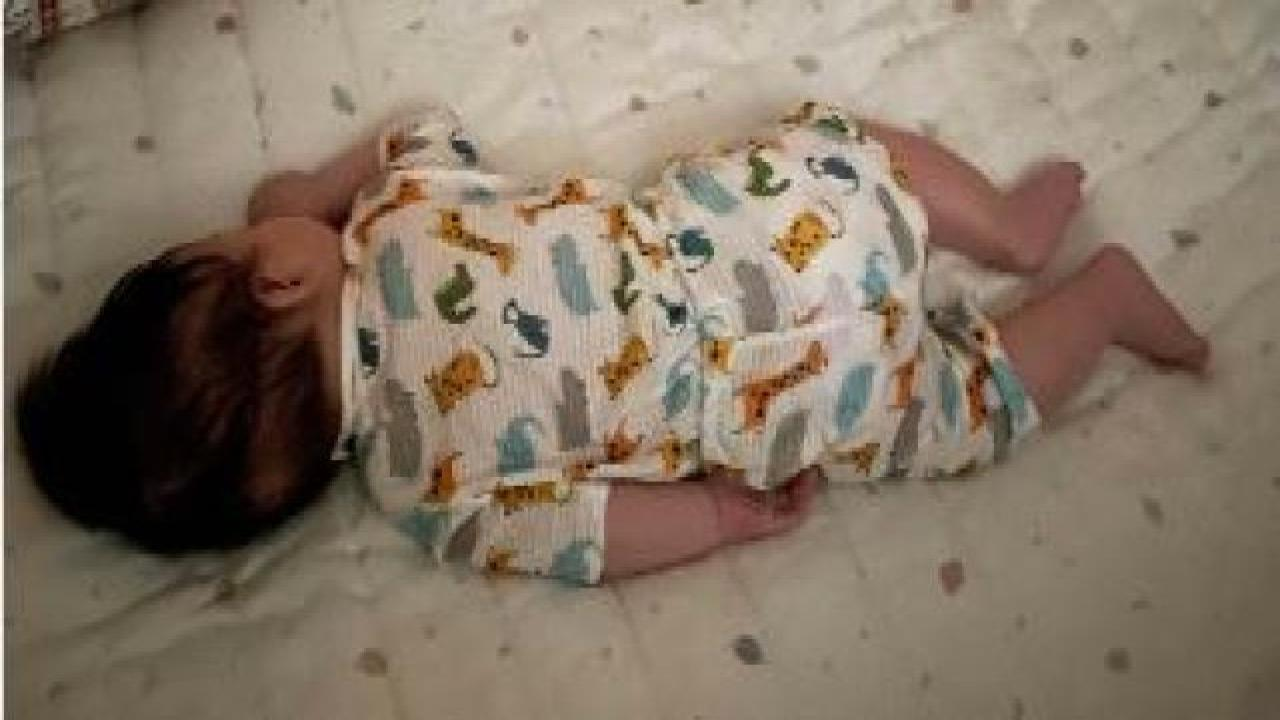hand: (704, 458, 844, 548), (233, 157, 345, 221)
